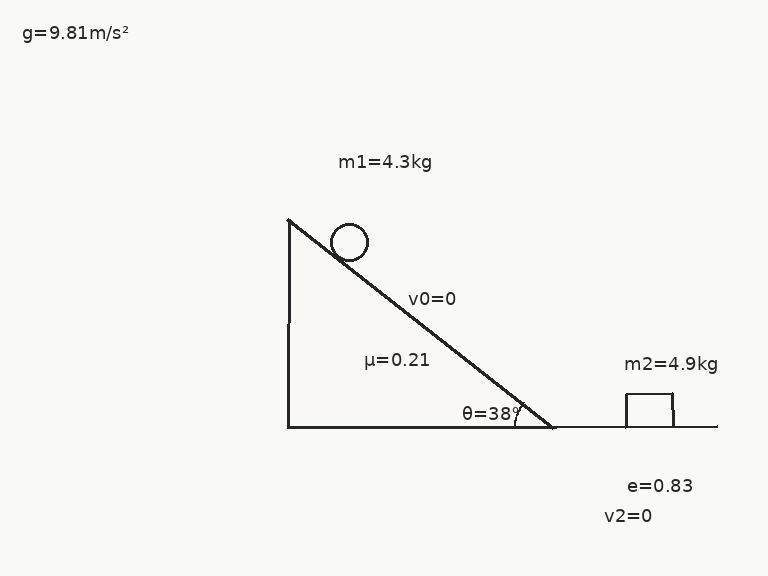ball: (328, 221, 370, 263)
block: (624, 391, 674, 429)
ramp: (286, 216, 557, 429)
